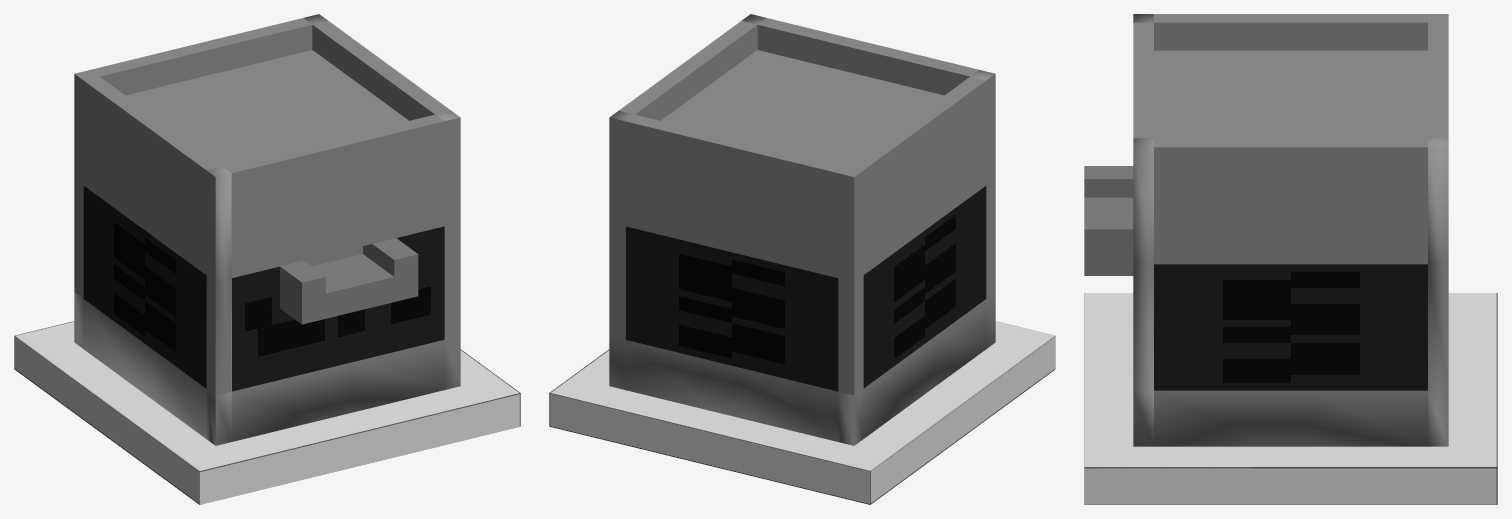
The model's file is caster.obj.
The picture shows the model from 3 angles, left to right: view 1: azimuth 30°, elevation 25°; view 2: azimuth 150°, elevation 25°; view 3: azimuth 270°, elevation 25°; orthographic projection. The views are drawn at different scales.
Parts seen in each view (by area): view 1: Caster_Cube.001, Floorplate_FloorPlate_Cube.005, Glass_Back_Plane.002, Glass_Right_Plane.001, Connector_FluidConnector_Cube.001; view 2: Caster_Cube.001, Floorplate_FloorPlate_Cube.005, Glass_Front_Plane, Glass_Right_Plane.001; view 3: Caster_Cube.001, Floorplate_FloorPlate_Cube.005, Glass_Left_Plane.003, Connector_FluidConnector_Cube.001.
Part boxes in pixels (<box>): Caster_Cube.001: <box>74,14,460,445</box>; Floorplate_FloorPlate_Cube.005: <box>14,321,520,504</box>; Glass_Back_Plane.002: <box>232,226,444,391</box>; Glass_Right_Plane.001: <box>83,186,206,388</box>; Connector_FluidConnector_Cube.001: <box>280,238,418,324</box>; Caster_Cube.001: <box>609,14,995,445</box>; Floorplate_FloorPlate_Cube.005: <box>549,321,1055,504</box>; Glass_Front_Plane: <box>625,226,838,391</box>; Glass_Right_Plane.001: <box>863,186,986,388</box>; Caster_Cube.001: <box>1133,14,1448,446</box>; Floorplate_FloorPlate_Cube.005: <box>1084,293,1497,504</box>; Glass_Left_Plane.003: <box>1154,264,1427,390</box>; Connector_FluidConnector_Cube.001: <box>1084,166,1133,275</box>.
Size of the model in its own units: 1 by 0.9 by 1.
